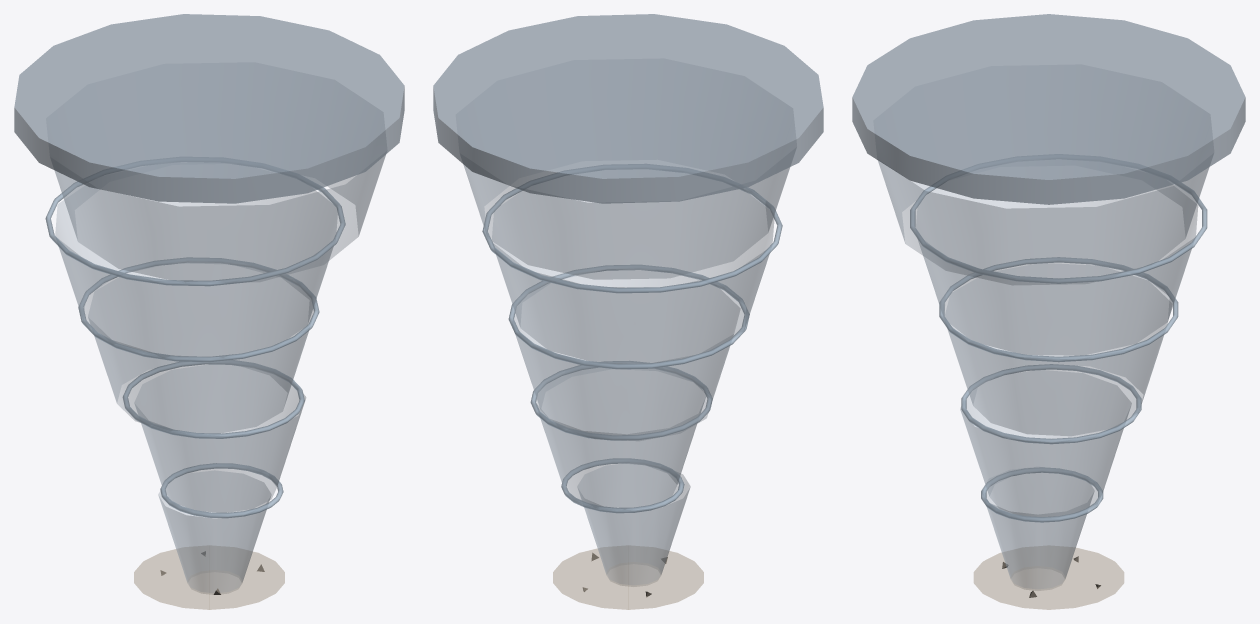
The model's file is tornado.glb.
3 views of the same model, side by side, from view 1: azimuth 30°, elevation 25°; view 2: azimuth 150°, elevation 25°; view 3: azimuth 270°, elevation 25° (orthographic).
Size of the model in its own units: 7.2 by 9.75 by 7.2.
